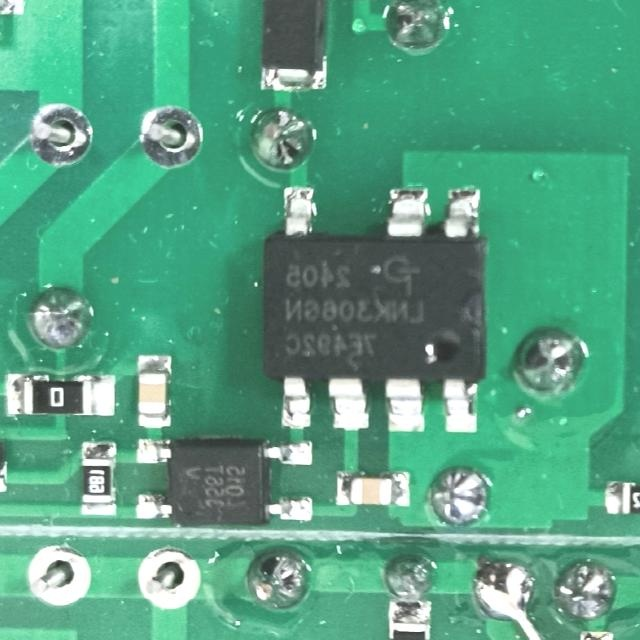chip-capacitor: (332, 468, 412, 508), (134, 352, 174, 429)
chip-resistor: (4, 369, 119, 418), (81, 439, 119, 517)
diode: (259, 0, 330, 91)
ic: (256, 184, 484, 436), (132, 436, 316, 526)
